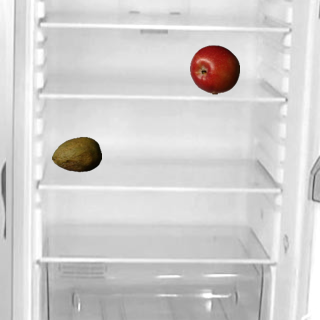Apple Braeburn: (189, 44, 239, 94)
Papaya: (51, 129, 101, 179)
